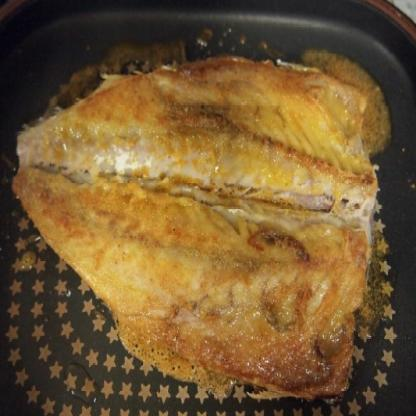Peixe: (0, 51, 393, 395)
